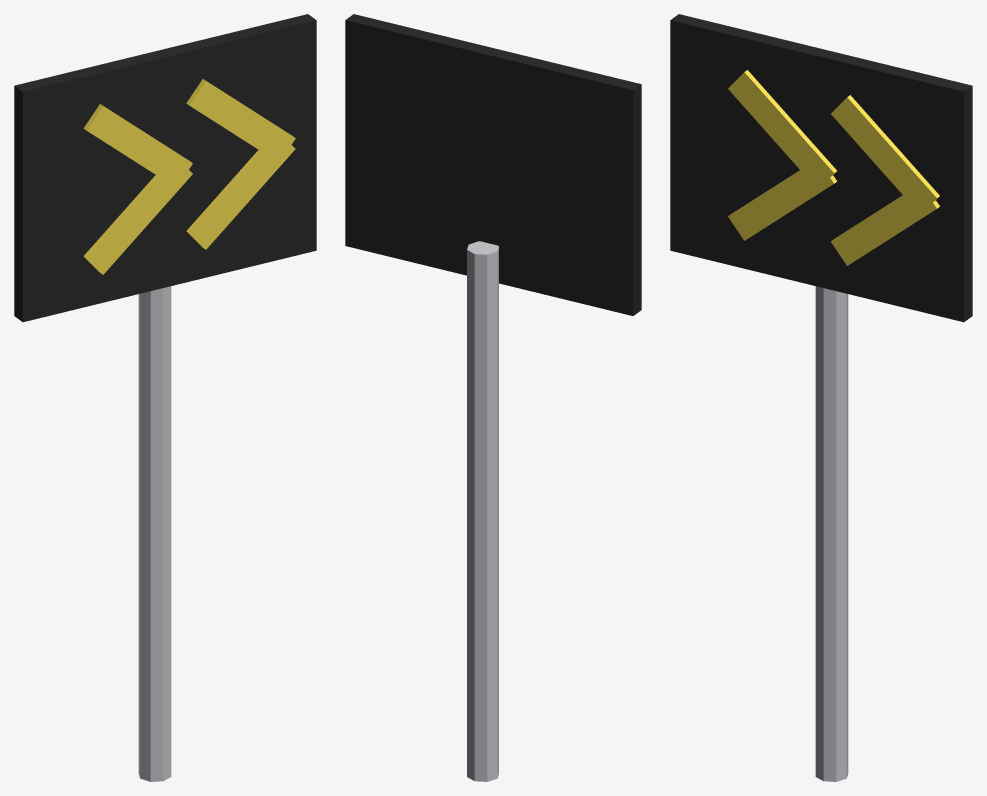
The model's file is chevron.glb.
3 renders of one model, left to right at view 1: azimuth 30°, elevation 25°; view 2: azimuth 150°, elevation 25°; view 3: azimuth 330°, elevation 25°, orthographic. The views are drawn at different scales.
Visible parts, largest first — view 1: chevron; view 2: chevron; view 3: chevron.
Boxes of the visible parts, <box> form: chevron: <box>14,14,316,781</box>; chevron: <box>345,14,641,781</box>; chevron: <box>670,14,972,781</box>.
Bounding box in the file's own units: 0.8 × 1.9 × 0.125.
